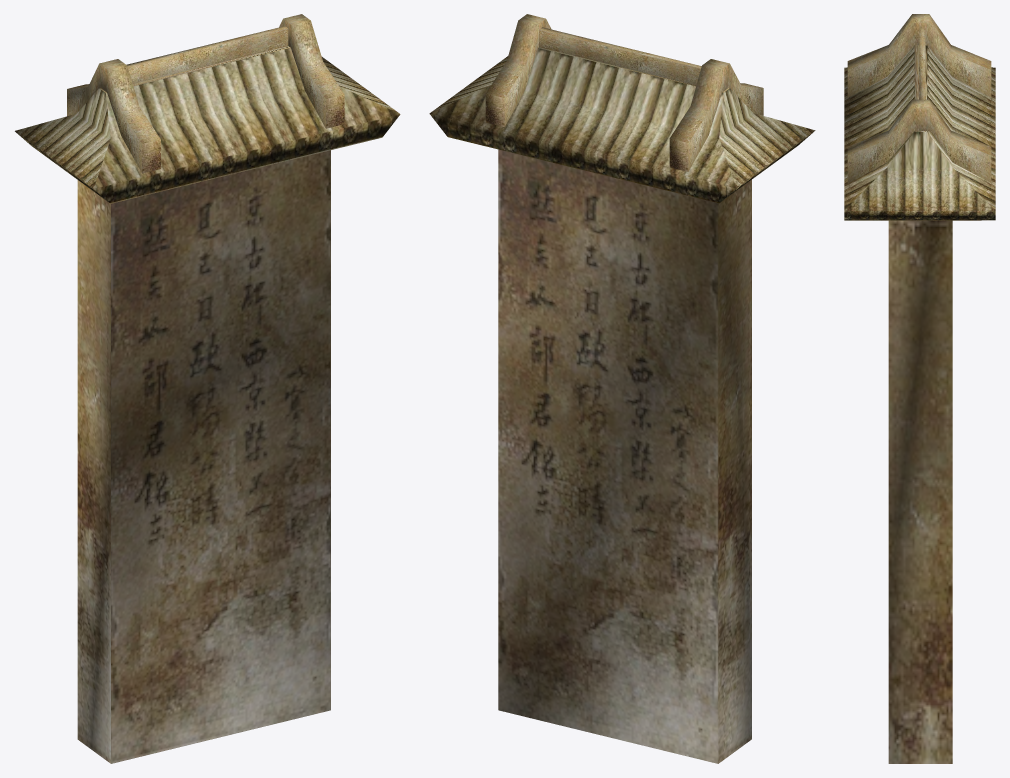
The model's file is w_cd_tombstone01.glb.
3 renders of one model, left to right at view 1: azimuth 30°, elevation 25°; view 2: azimuth 150°, elevation 25°; view 3: azimuth 270°, elevation 25°, orthographic. The views are drawn at different scales.
Visible parts, largest first — view 1: w_cd_tombstone01; view 2: w_cd_tombstone01; view 3: w_cd_tombstone01.
Part boxes in pixels (x1,y1,x2,y2): w_cd_tombstone01: (15,14,400,763); w_cd_tombstone01: (429,14,815,763); w_cd_tombstone01: (844,14,995,763).
Bounding box in the file's own units: 1.13 × 2.41 × 0.5077.
Materials: 1 (1 with a texture image).
